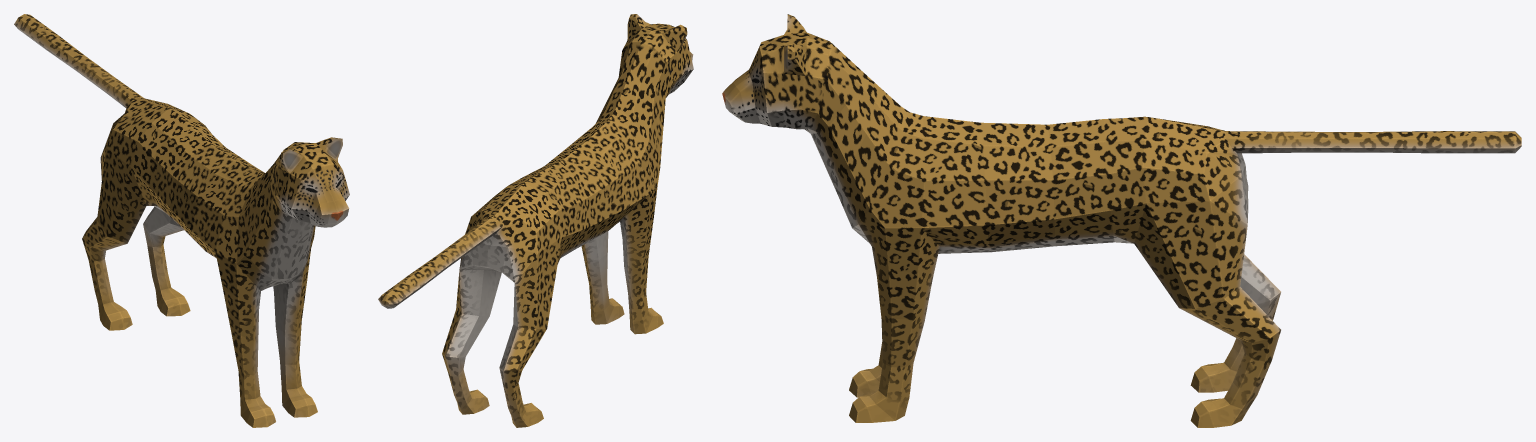
The model's file is ac02769f-f9e1-4214-b267-3c9eefd7e582.glb.
3 views of the same model, side by side, from view 1: azimuth 30°, elevation 25°; view 2: azimuth 150°, elevation 25°; view 3: azimuth 270°, elevation 25° (orthographic). The views are drawn at different scales.
Visible parts, largest first — view 1: Leopard_mesh; view 2: Leopard_mesh; view 3: Leopard_mesh.
Part boxes in pixels (<box>): Leopard_mesh: <box>14,14,349,427</box>; Leopard_mesh: <box>378,14,693,427</box>; Leopard_mesh: <box>722,14,1521,427</box>.
Bounding box in the file's own units: 2.21 × 7.08 × 13.75.
1 material, 1 textured.
